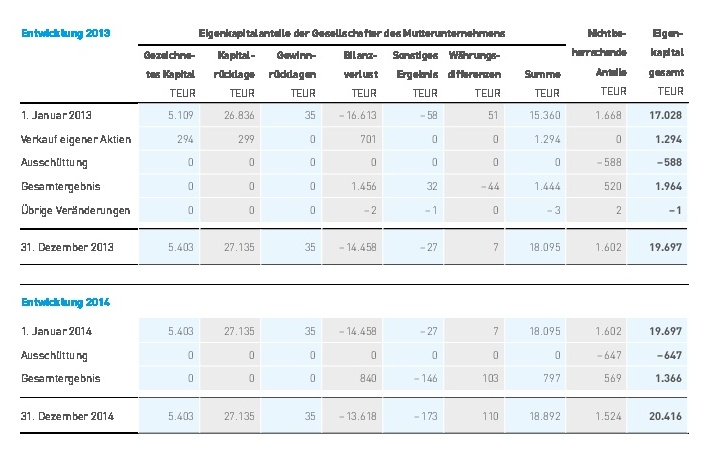table: (0, 0, 705, 462)
